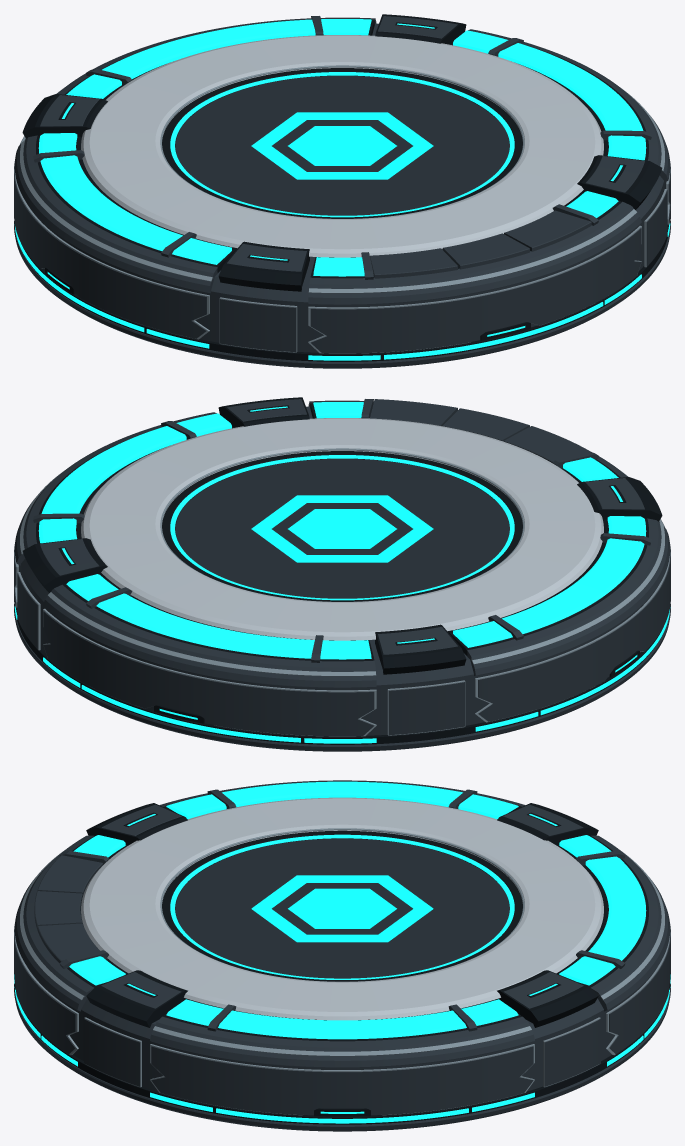
The model's file is Blocker.glb.
3 views of the same model, one above another, from view 1: azimuth 30°, elevation 25°; view 2: azimuth 150°, elevation 25°; view 3: azimuth 270°, elevation 25° (orthographic).
Parts seen in each view (by area): view 1: Broad brushed steel crown, Recessed center face, Blocker wide shield panel 3, Blocker wide shield panel 2, Upper shoulder armor 4, Upper shoulder armor 3, Continuous structural core, Rounded lower bumper, Top cyan window 3.2, Recessed circular black gasket, Top cyan window 2.2, Top cyan window 1.2 (+41 smaller); view 2: Broad brushed steel crown, Recessed center face, Blocker wide shield panel 1, Blocker wide shield panel 2, Upper shoulder armor 2, Upper shoulder armor 3, Continuous structural core, Rounded lower bumper, Top cyan window 2.2, Top cyan window 3.2, Recessed circular black gasket, Top cyan window 1.2 (+41 smaller); view 3: Broad brushed steel crown, Recessed center face, Blocker wide shield panel 0, Upper shoulder armor 1, Continuous structural core, Rounded lower bumper, Top cyan window 1.2, Recessed circular black gasket, Top cyan window 3.2, Top cyan window 2.2, Lower continuous light channel, Upper shoulder armor 2 (+41 smaller).
Part boxes in pixels (x1,y1,x2,y2): Broad brushed steel crown: (81, 35, 603, 257); Recessed center face: (175, 75, 509, 215); Blocker wide shield panel 3: (310, 228, 641, 353); Blocker wide shield panel 2: (14, 161, 206, 338); Upper shoulder armor 4: (308, 201, 641, 304); Upper shoulder armor 3: (14, 135, 217, 293); Continuous structural core: (25, 23, 665, 352); Rounded lower bumper: (14, 221, 670, 368); Top cyan window 3.2: (40, 155, 182, 250); Recessed circular black gasket: (162, 68, 522, 218); Top cyan window 2.2: (102, 19, 315, 78); Top cyan window 1.2: (498, 43, 643, 130); Broad brushed steel crown: (81, 418, 603, 640); Recessed center face: (175, 458, 509, 598); Blocker wide shield panel 1: (43, 611, 374, 736); Blocker wide shield panel 2: (478, 544, 670, 721); Upper shoulder armor 2: (43, 584, 376, 687); Upper shoulder armor 3: (467, 518, 670, 676); Continuous structural core: (19, 406, 659, 735); Rounded lower bumper: (14, 604, 670, 751); Top cyan window 2.2: (96, 593, 314, 658); Top cyan window 3.2: (502, 538, 644, 633); Recessed circular black gasket: (162, 451, 522, 601); Top cyan window 1.2: (41, 426, 186, 513); Broad brushed steel crown: (81, 797, 603, 1020); Recessed center face: (175, 838, 509, 978); Blocker wide shield panel 0: (151, 1046, 533, 1114); Upper shoulder armor 1: (150, 1016, 534, 1067); Continuous structural core: (27, 881, 657, 1115); Rounded lower bumper: (14, 984, 670, 1131); Top cyan window 1.2: (218, 1010, 466, 1039); Recessed circular black gasket: (162, 830, 522, 981); Top cyan window 3.2: (222, 781, 462, 807); Top cyan window 2.2: (585, 856, 646, 960); Lower continuous light channel: (21, 1007, 663, 1124); Upper shoulder armor 2: (591, 835, 670, 1011).
Bounding box in the file's own units: 1.06 × 0.165 × 1.06.
